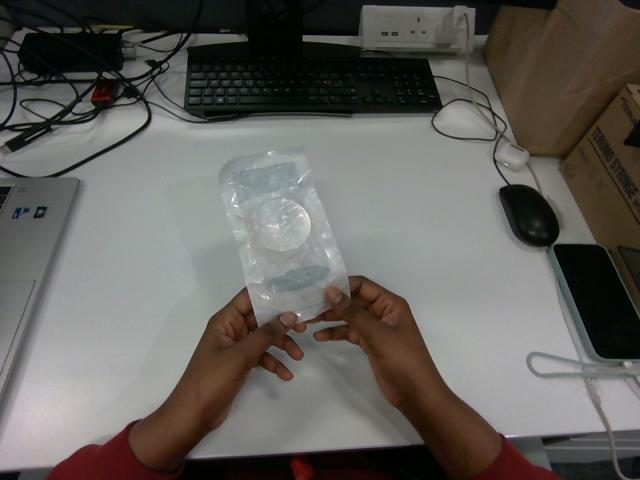gallipot: (219, 147, 348, 323)
